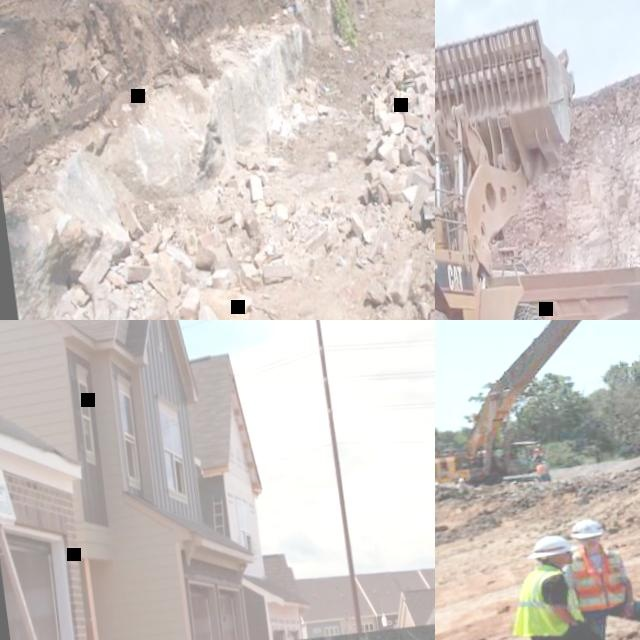Hardhat: (525, 531, 577, 558), (569, 518, 603, 539), (535, 442, 542, 445), (541, 459, 547, 462)
NO-Mask: (579, 538, 603, 549), (557, 554, 574, 564)
Person: (499, 527, 628, 640), (556, 507, 640, 640), (535, 458, 552, 481), (530, 442, 546, 464)
Safety Vest: (502, 559, 587, 640), (568, 548, 629, 611), (535, 463, 547, 473), (534, 446, 545, 455)
machinery: (435, 0, 634, 320), (435, 320, 640, 496), (479, 247, 640, 320)
